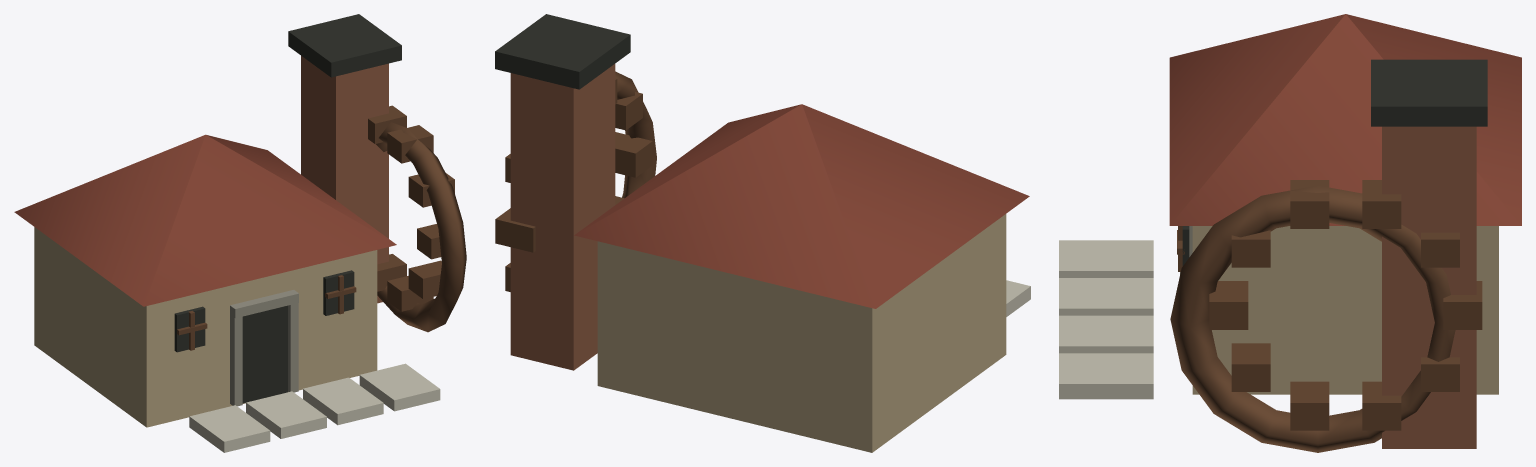
The model's file is custom-imp-papermill.glb.
3 views of the same model, side by side, from view 1: azimuth 30°, elevation 25°; view 2: azimuth 150°, elevation 25°; view 3: azimuth 270°, elevation 25° (orthographic). The views are drawn at different scales.
Visible parts, largest first — view 1: custom-imp-papermill; view 2: custom-imp-papermill; view 3: custom-imp-papermill.
Part boxes in pixels (x1=…): custom-imp-papermill: x1=14, y1=14, x2=466, y2=452; custom-imp-papermill: x1=495, y1=14, x2=1030, y2=452; custom-imp-papermill: x1=1059, y1=14, x2=1521, y2=452.
Size of the model in its own units: 1 by 0.748 by 0.882.
